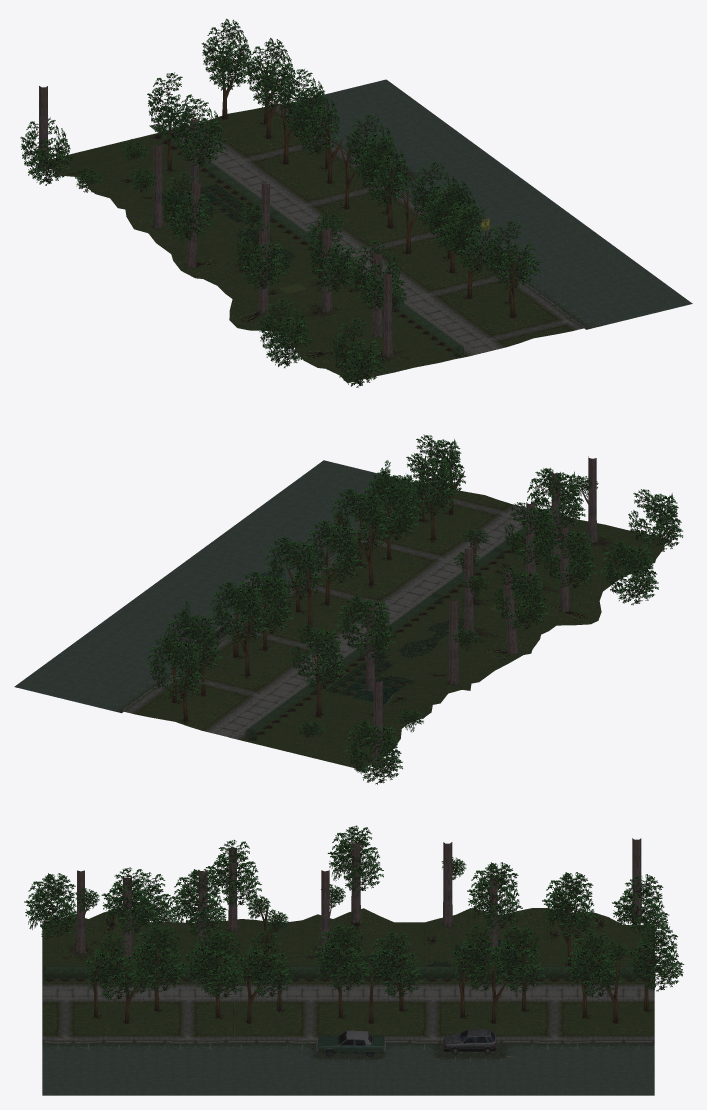
Rendered from THRF9FC.glb.
The picture shows the model from 3 angles, top to bottom: view 1: azimuth 30°, elevation 25°; view 2: azimuth 150°, elevation 25°; view 3: azimuth 270°, elevation 25°; orthographic projection.
Parts seen in each view (by area): view 1: THR0001_m0, THR0020_m0, A605_1_H_m0, THRA604_m0, THR0020#3_m0, A605_1_H#1_m0, THRA602_m0, THR0001#1_m0, THRA601_m0, THR0001#2_m0, THR0020#2_m0, THR0020#1_m0 (+31 smaller); view 2: THRA601_m0, THR0001#2_m0, A605_1_H#1_m0, THR0020#4_m0, THRA602_m0, THRA604_m0, THR0020#1_m0, THR0001#1_m0, THR0020#3_m0, THR0020_m0, THR0001_m0, THR0020#2_m0 (+35 smaller); view 3: THR0001_m0, THR0001#2_m0, THR0001#1_m0, THR0020#4_m0, THR0020_m0, THR0020#1_m0, THR0020#2_m0, THR0020#3_m0, THRA602_m0, THRA601_m0, A605_1_H#1_m0, A605_1_H_m0 (+42 smaller).
Part boxes in pixels (x1=…): THR0001_m0: x1=527, y1=259, x2=692, y2=329; THR0020_m0: x1=419, y1=283, x2=585, y2=353; A605_1_H_m0: x1=290, y1=309, x2=480, y2=383; THRA604_m0: x1=225, y1=265, x2=418, y2=336; THR0020#3_m0: x1=235, y1=148, x2=401, y2=218; A605_1_H#1_m0: x1=164, y1=219, x2=354, y2=293; THRA602_m0: x1=96, y1=174, x2=295, y2=248; THR0001#1_m0: x1=472, y1=214, x2=630, y2=283; THRA601_m0: x1=49, y1=129, x2=234, y2=193; THR0001#2_m0: x1=284, y1=79, x2=447, y2=149; THR0020#2_m0: x1=297, y1=193, x2=457, y2=263; THR0020#1_m0: x1=359, y1=243, x2=523, y2=308; THRA601_m0: x1=229, y1=692, x2=431, y2=769; THR0001#2_m0: x1=14, y1=641, x2=178, y2=713; A605_1_H#1_m0: x1=353, y1=601, x2=548, y2=676; THR0020#4_m0: x1=122, y1=669, x2=289, y2=737; THRA602_m0: x1=291, y1=647, x2=486, y2=712; THRA604_m0: x1=414, y1=557, x2=609, y2=630; THR0020#1_m0: x1=310, y1=530, x2=464, y2=601; THR0001#1_m0: x1=200, y1=506, x2=366, y2=576; THR0020#3_m0: x1=189, y1=621, x2=351, y2=691; THR0020_m0: x1=370, y1=487, x2=526, y2=555; THR0001_m0: x1=262, y1=460, x2=426, y2=530; THR0020#2_m0: x1=249, y1=576, x2=413, y2=645; THR0001_m0: x1=42, y1=1043, x2=165, y2=1095; THR0001#2_m0: x1=531, y1=1043, x2=654, y2=1095; THR0001#1_m0: x1=164, y1=1043, x2=287, y2=1095; THR0020#4_m0: x1=531, y1=989, x2=654, y2=1043; THR0020_m0: x1=42, y1=989, x2=165, y2=1043; THR0020#1_m0: x1=164, y1=989, x2=287, y2=1043; THR0020#2_m0: x1=287, y1=989, x2=409, y2=1043; THR0020#3_m0: x1=409, y1=989, x2=532, y2=1043; THRA602_m0: x1=409, y1=908, x2=532, y2=989; THRA601_m0: x1=531, y1=908, x2=654, y2=989; A605_1_H#1_m0: x1=287, y1=908, x2=409, y2=989; A605_1_H_m0: x1=42, y1=909, x2=165, y2=989.
Size of the model in its own units: 29.14 by 9.34 by 44.41.
20 materials, 20 textured.
